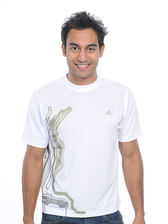clothoes: (25, 68, 142, 217)
